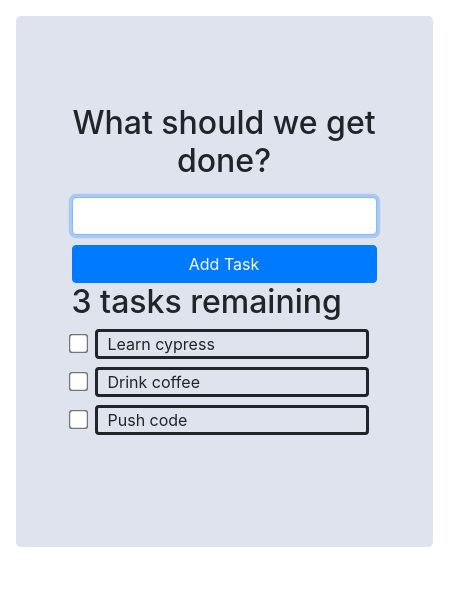
The add todo form › creates a task via the add button
Type "Learn about cypress" into the field with id "new-todo-input" at (225, 216), box [72,197,377,235]
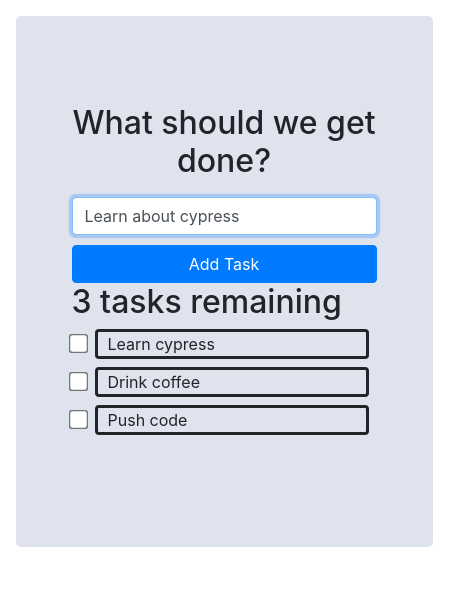
Click the button with id "add_task" at (225, 264), box [72,245,377,283]
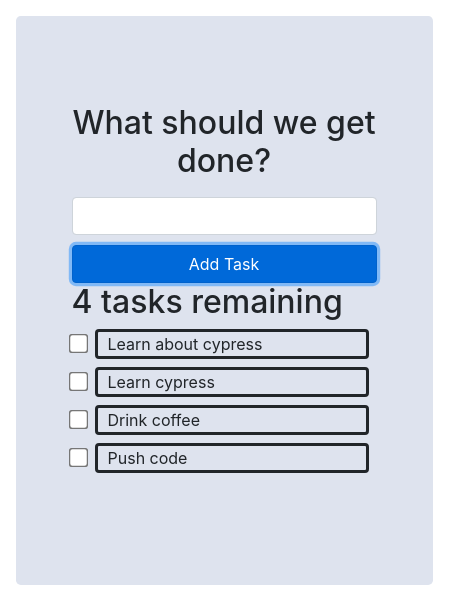
Now the label "Learn about cypress" is shown, box [94,329,369,359]
